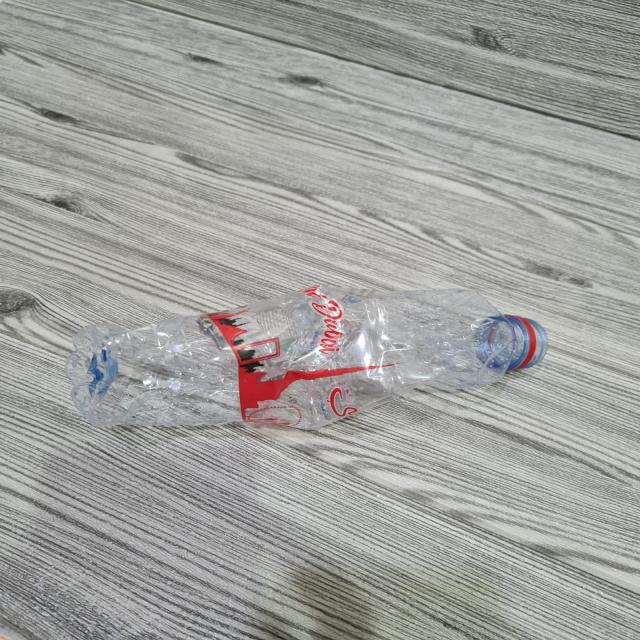bottle: (73, 287, 551, 428)
